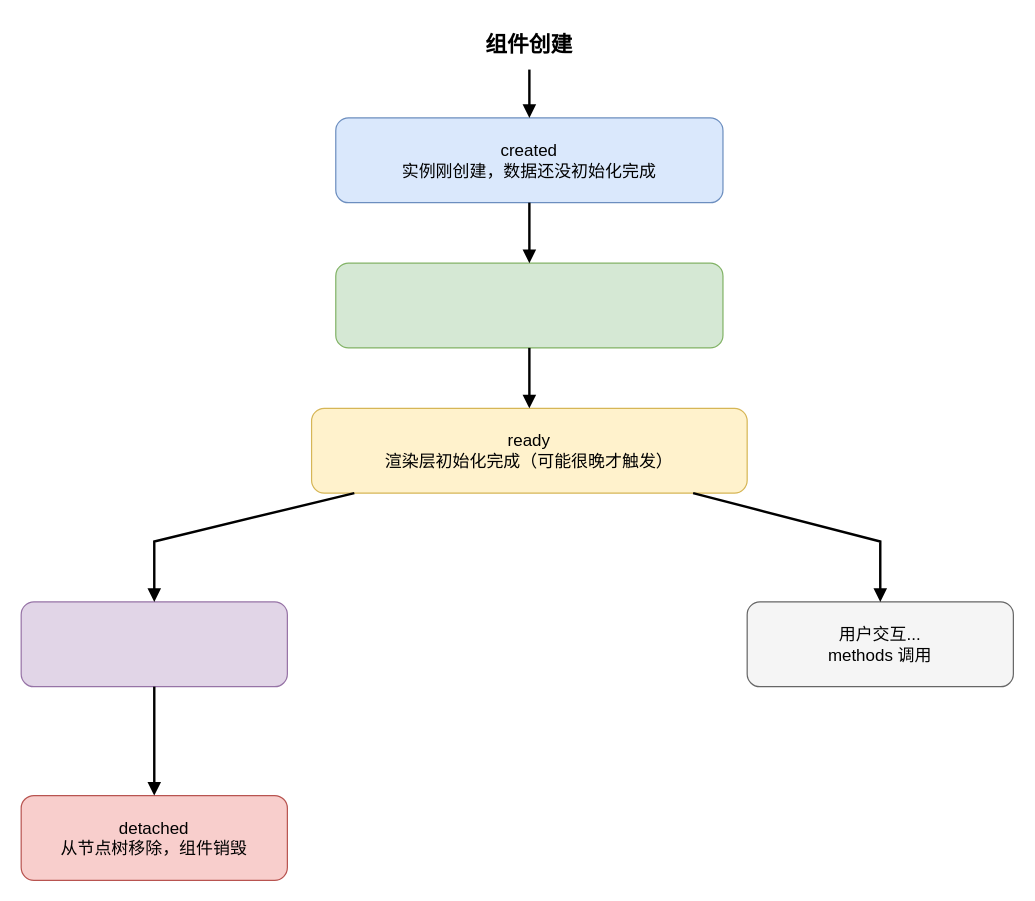
Some shapes in this 1035 by 901 pixel diagram are drawn without their labels. The shapes that lost their labels are listed below. From the top down, each one's box as (x1, y1, x2, y2) in pixels, then its label:
(335, 262, 723, 348): attached 进入页面节点树，可以 setData 了 ✅
(20, 601, 287, 687): moved 位置移动
